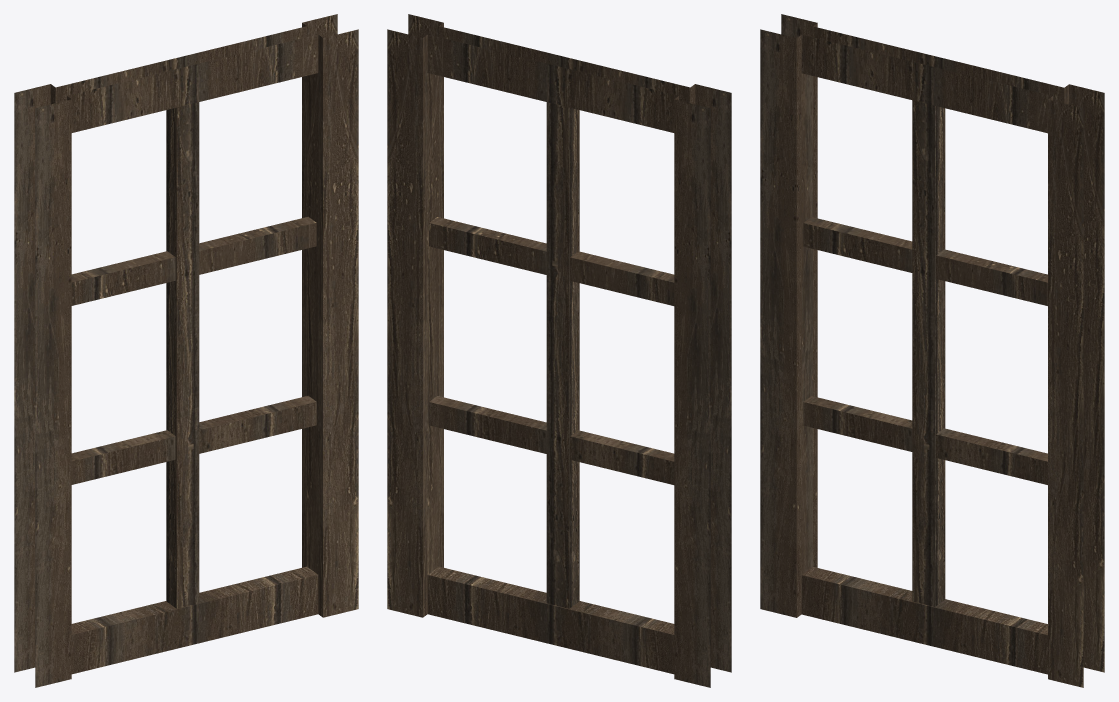
File: ARC1010363.fbx
3 views of the same model, side by side, from view 1: azimuth 30°, elevation 25°; view 2: azimuth 150°, elevation 25°; view 3: azimuth 330°, elevation 25° (orthographic).
Visible parts, largest first — view 1: smARC1010363; view 2: smARC1010363; view 3: smARC1010363.
Part boxes in pixels (<box>): smARC1010363: <box>14,14,358,687</box>; smARC1010363: <box>387,14,731,687</box>; smARC1010363: <box>760,14,1104,687</box>.
Bounding box in the file's own units: 75.7 × 130 × 8.5.
1 material, 1 textured.
